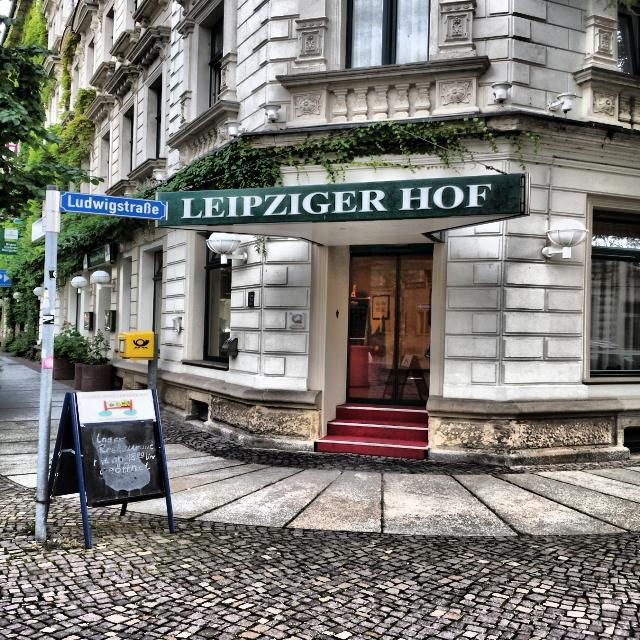escada: (309, 399, 429, 456)
